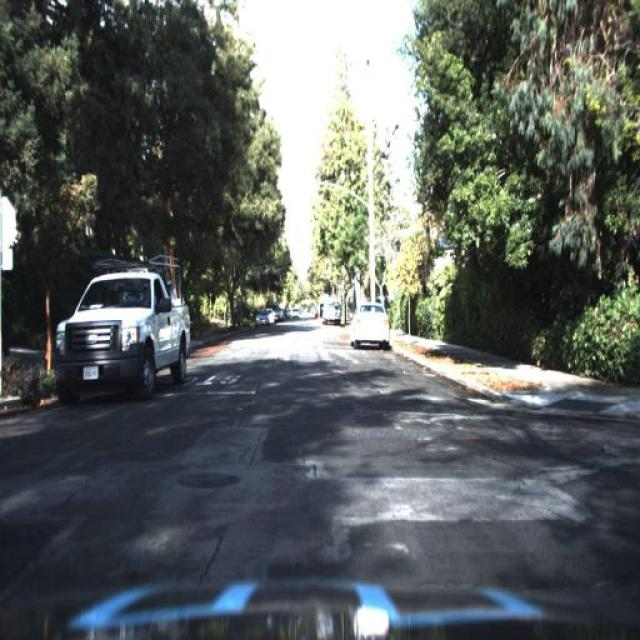car: (34, 228, 206, 422), (347, 294, 395, 356), (318, 287, 348, 331), (249, 303, 272, 331), (252, 306, 269, 329), (290, 304, 304, 320)
